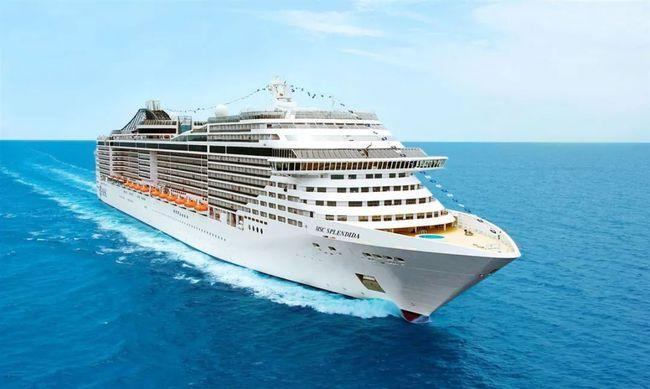Ship: (82, 82, 536, 329)
